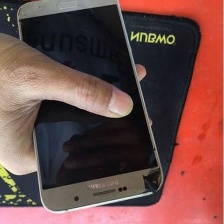phone: (12, 0, 167, 215)
